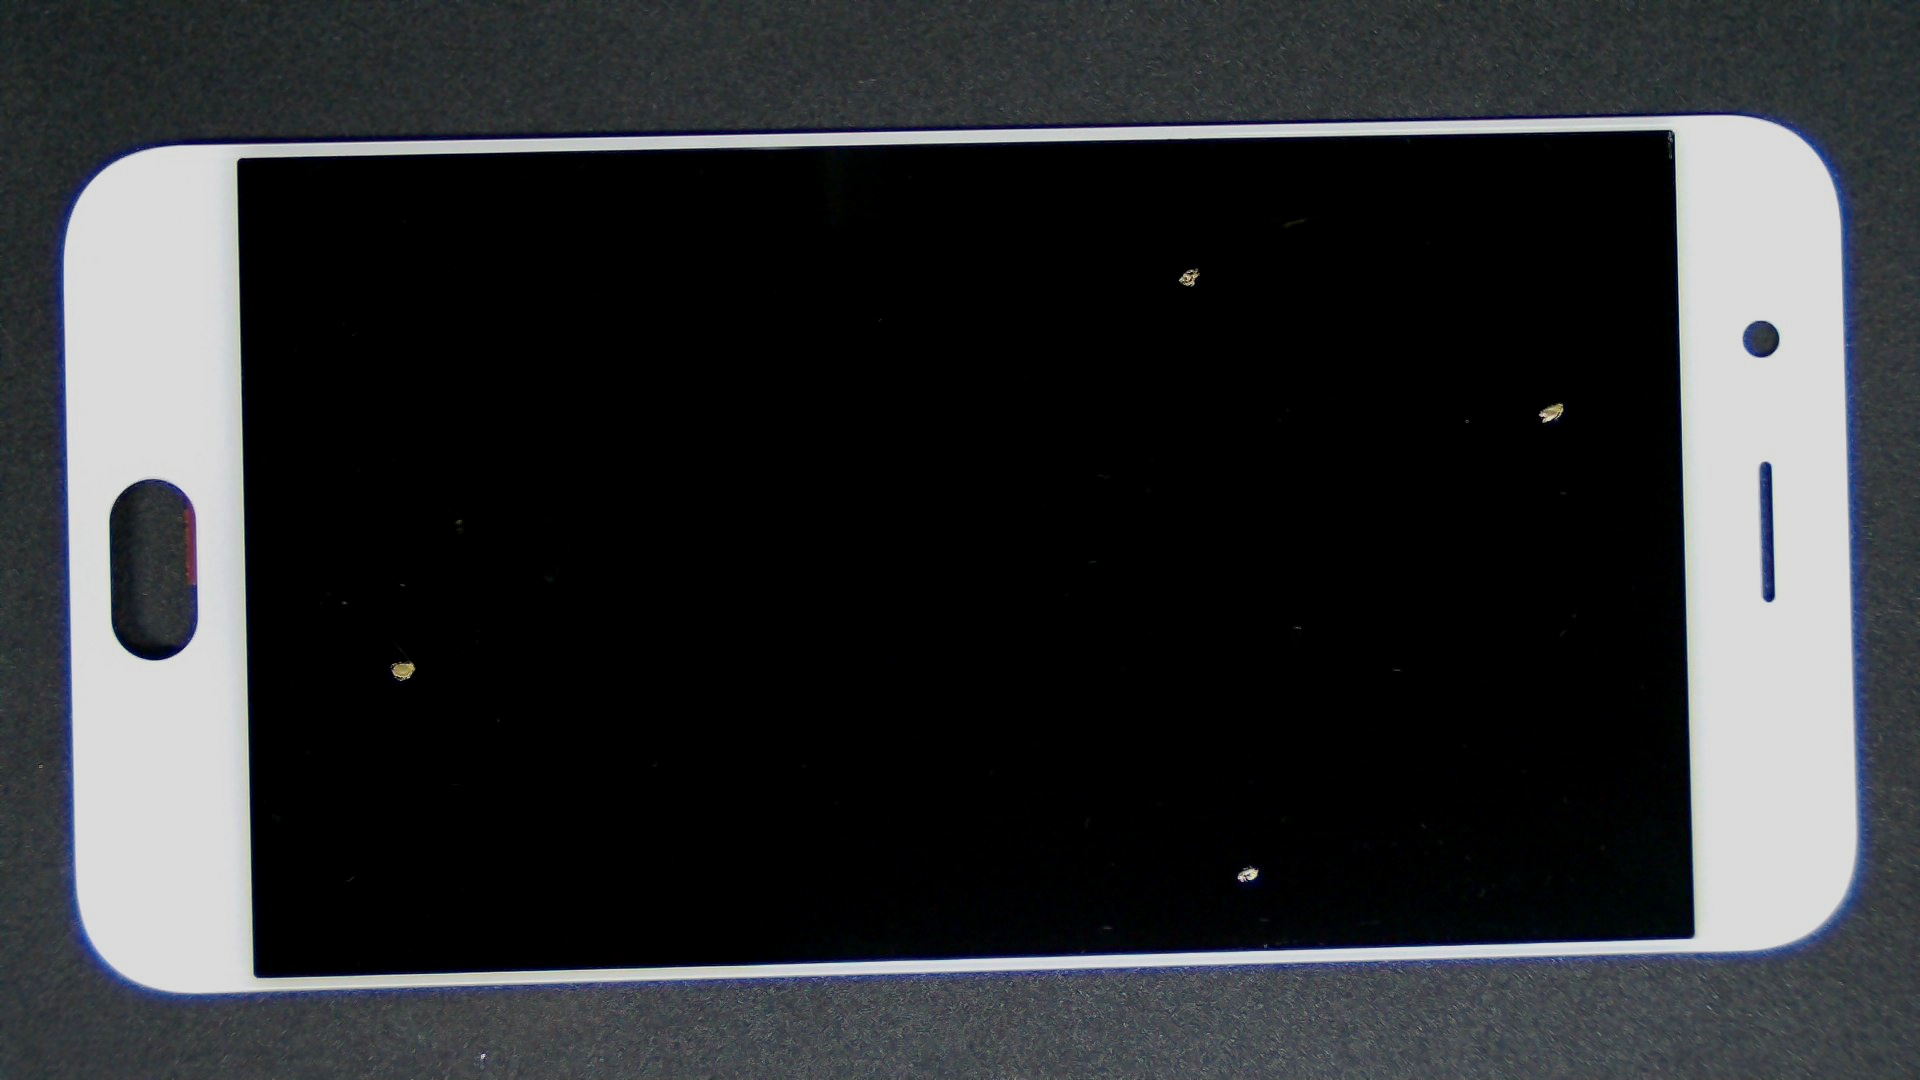oil: (626, 431, 1876, 1080), (781, 200, 1920, 603), (599, 132, 1793, 400), (200, 327, 592, 989)
